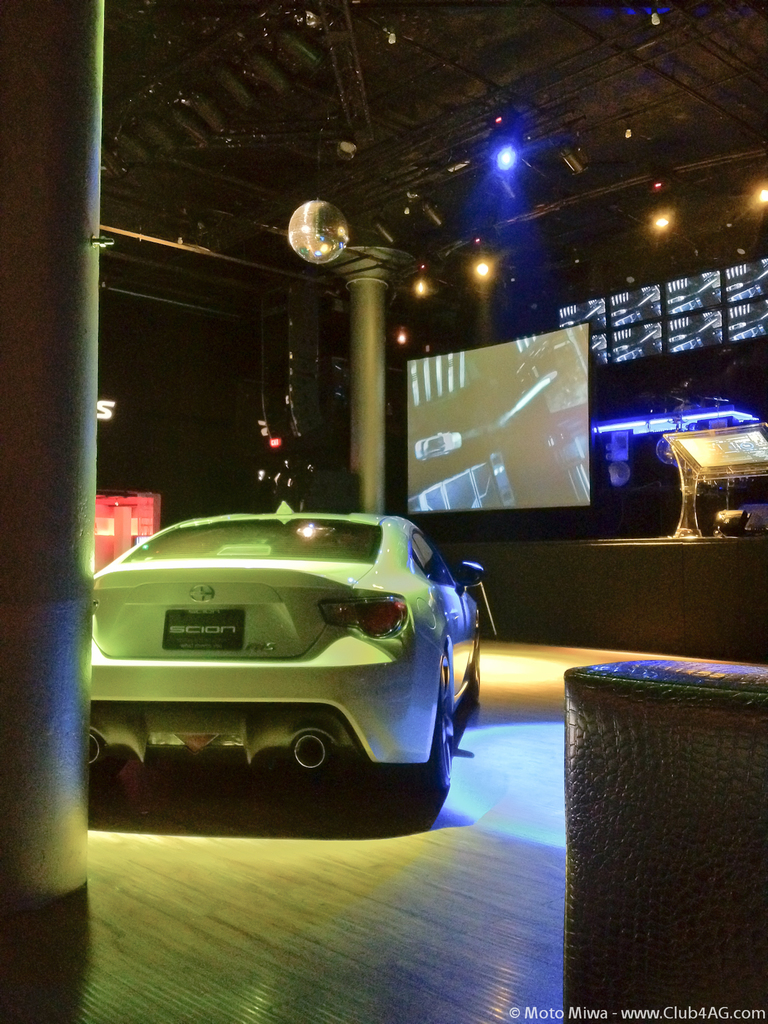mobil: (95, 507, 492, 807)
